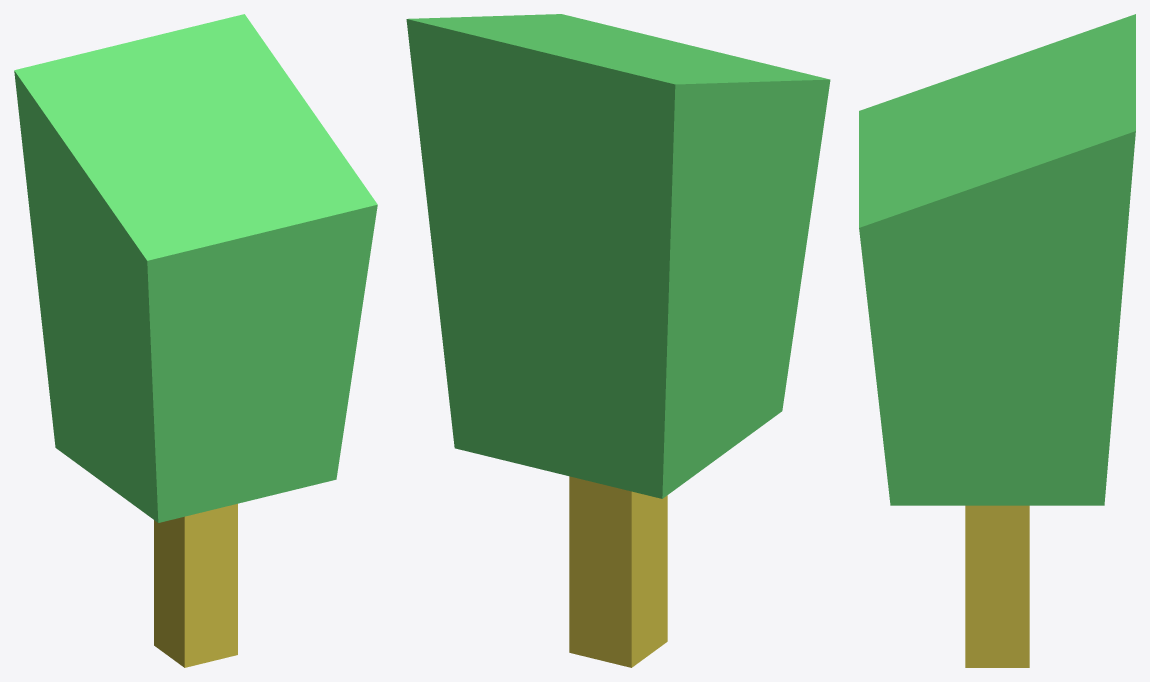
Rendered from Tree.glb.
3 renders of one model, left to right at view 1: azimuth 30°, elevation 25°; view 2: azimuth 150°, elevation 25°; view 3: azimuth 270°, elevation 25°, orthographic. The views are drawn at different scales.
Visible parts, largest first — view 1: Cube; view 2: Cube; view 3: Cube.
Boxes of the visible parts, x1,y1,x2,y2 form: Cube: (14, 14, 377, 667); Cube: (406, 14, 830, 667); Cube: (859, 14, 1135, 667).
Size of the model in its own units: 2.59 by 6 by 2.59.
